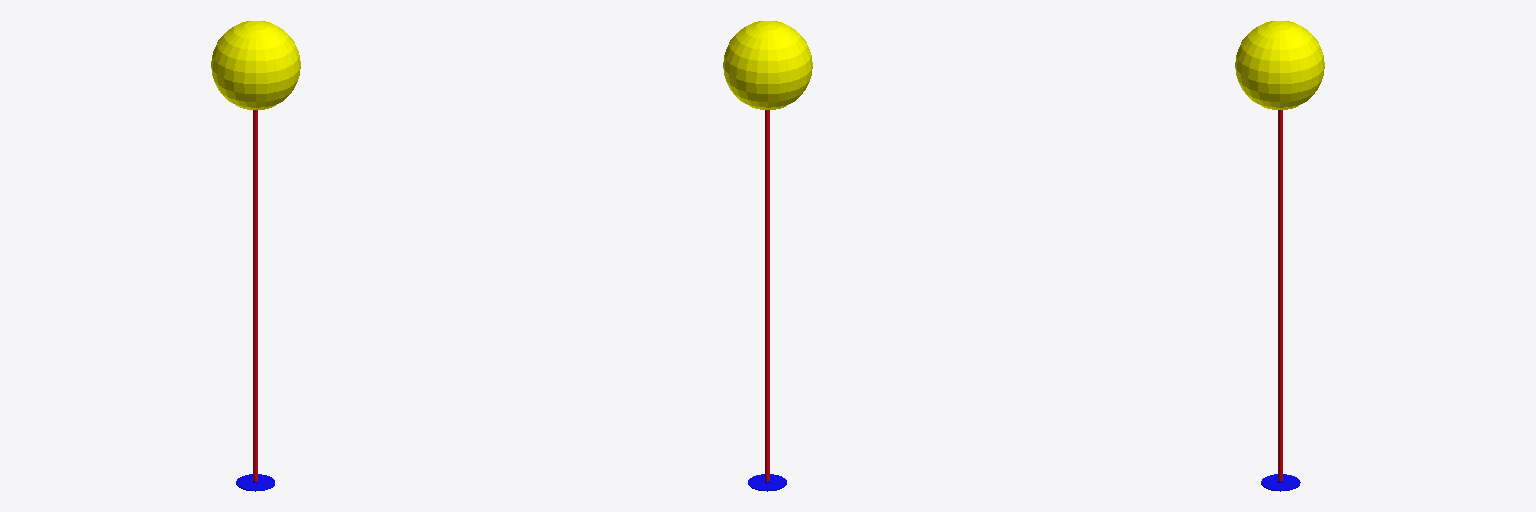
The robot description file, URDF, robot "buoy_yellow":
<robot name="buoy_yellow">
  <link name="buoy_yellow">
    <inertial>
      <origin rpy="0 0 0" xyz="0.1 0.1 0"/>
      <mass value="10"/>
      <inertia ixx="0" ixy="0" ixz="0" iyy="0" iyz="0" izz="0"/>
    </inertial>
    <visual>
      <origin rpy="0 0 0" xyz="0 0 0"/>
      <geometry>
        <mesh filename="package://varun_gazebo/models/buoy_yellow/meshes/buoy_yellow.dae"/>
      </geometry>
    </visual>
    <collision>
      <origin rpy="0 0 0" xyz="0 0 0"/>
      <geometry>
        <mesh filename="package://varun_gazebo/models/buoy_yellow/meshes/buoy_yellow.dae"/>
      </geometry>
    </collision>
  </link>
</robot>

--- Facts derived from the render (not from the file) ---
3 views of the same robot in one strip: view 1: azimuth 30°, elevation 25°; view 2: azimuth 150°, elevation 25°; view 3: azimuth 270°, elevation 25° (orthographic).
Model buoy_yellow with 1 links and 0 joints (none), rooted at buoy_yellow, posed every joint at zero.
Links seen in each view (by area): view 1: buoy_yellow; view 2: buoy_yellow; view 3: buoy_yellow.
Boxes of the visible links, x1,y1,x2,y2 form: buoy_yellow: (211, 21, 300, 491); buoy_yellow: (723, 21, 812, 491); buoy_yellow: (1235, 21, 1324, 491).
Size in the robot's own frame: 0.4572 by 0.4572 by 2.57 metres.
Meshes: 1 distinct files referenced, 1 mesh visuals loaded (1 Collada DAE).
